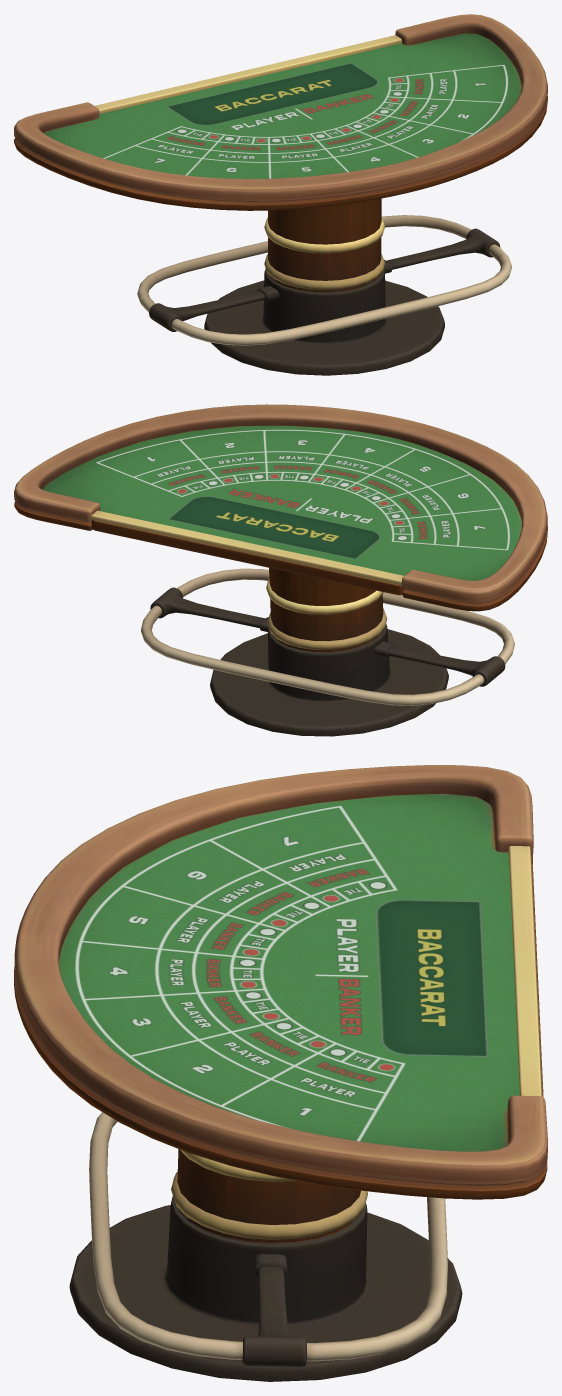
File: baccaratTable-transformed.glb
3 views of the same model, one above another, from view 1: azimuth 30°, elevation 25°; view 2: azimuth 150°, elevation 25°; view 3: azimuth 270°, elevation 25° (orthographic). The views are drawn at different scales.
Parts seen in each view (by area): view 1: VCAP_BaccaratTable_VCAP_BaccaratTable_MAT_0, VCAP_BaccaratTable_Design_VCAP_BaccaratTable_Design_MAT_0; view 2: VCAP_BaccaratTable_VCAP_BaccaratTable_MAT_0, VCAP_BaccaratTable_Design_VCAP_BaccaratTable_Design_MAT_0; view 3: VCAP_BaccaratTable_VCAP_BaccaratTable_MAT_0, VCAP_BaccaratTable_Design_VCAP_BaccaratTable_Design_MAT_0.
Part boxes in pixels (left/top/right/bottom): VCAP_BaccaratTable_VCAP_BaccaratTable_MAT_0: left=14, top=14, right=547, bottom=375; VCAP_BaccaratTable_Design_VCAP_BaccaratTable_Design_MAT_0: left=103, top=63, right=507, bottom=178; VCAP_BaccaratTable_VCAP_BaccaratTable_MAT_0: left=14, top=404, right=547, bottom=736; VCAP_BaccaratTable_Design_VCAP_BaccaratTable_Design_MAT_0: left=96, top=429, right=509, bottom=559; VCAP_BaccaratTable_VCAP_BaccaratTable_MAT_0: left=14, top=765, right=547, bottom=1381; VCAP_BaccaratTable_Design_VCAP_BaccaratTable_Design_MAT_0: left=75, top=806, right=488, bottom=1141.
Size of the model in its own units: 2.54 by 1.09 by 1.49.
Materials: 2 (2 with a texture image).
